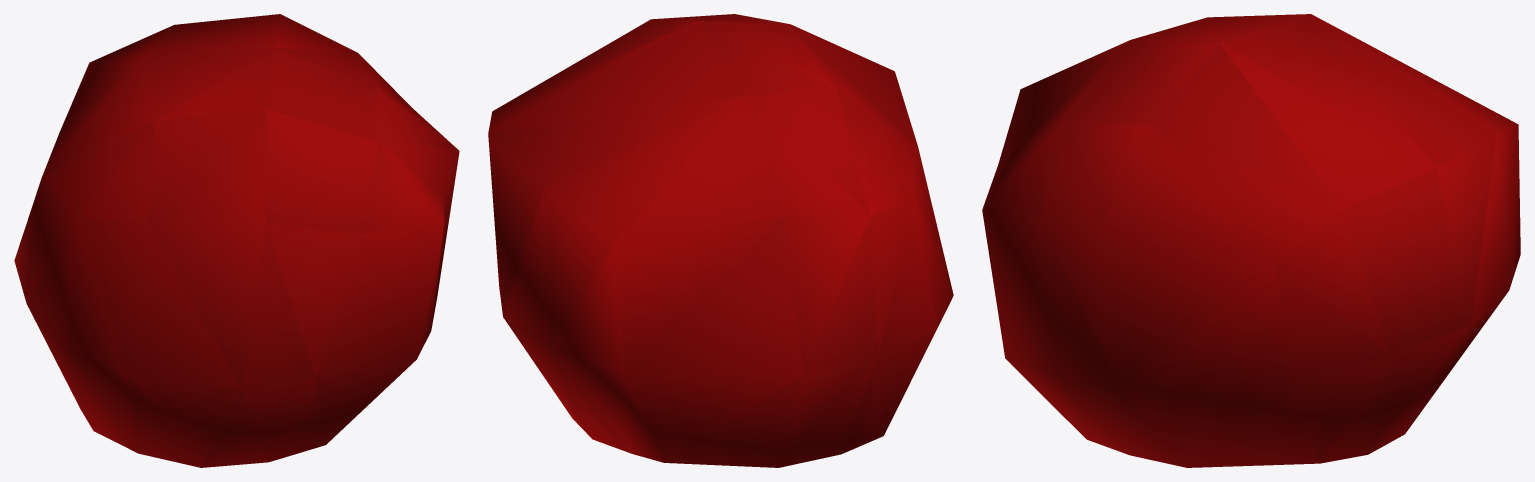
Rendered from sandrock.fbx.
3 renders of one model, left to right at view 1: azimuth 30°, elevation 25°; view 2: azimuth 150°, elevation 25°; view 3: azimuth 270°, elevation 25°, orthographic. The views are drawn at different scales.
Visible parts, largest first — view 1: SmallSandChunk.001; view 2: SmallSandChunk.001; view 3: SmallSandChunk.001.
Part boxes in pixels (x1,y1,x2,y2): SmallSandChunk.001: (14, 14, 459, 467); SmallSandChunk.001: (488, 14, 953, 467); SmallSandChunk.001: (982, 14, 1520, 467).
Bounding box in the file's own units: 238 × 221 × 258.
